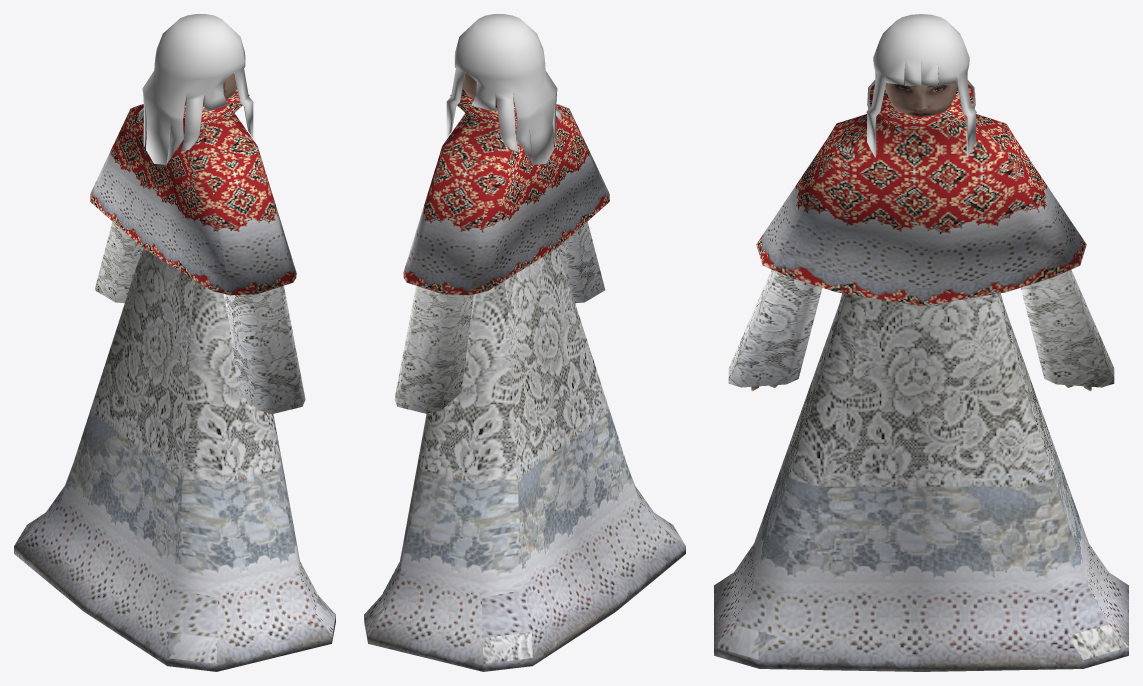
The model's file is npc 1.glb.
The picture shows the model from 3 angles, left to right: view 1: azimuth 30°, elevation 25°; view 2: azimuth 150°, elevation 25°; view 3: azimuth 270°, elevation 25°; orthographic projection. The views are drawn at different scales.
Visible parts, largest first — view 1: body.001, hair.001; view 2: body.001, hair.001; view 3: body.001, hair.001, head.001.
Part boxes in pixels (bbox=[...]): body.001: bbox=[14, 89, 335, 671]; hair.001: bbox=[138, 14, 253, 164]; body.001: bbox=[364, 89, 685, 671]; hair.001: bbox=[446, 14, 561, 164]; body.001: bbox=[714, 84, 1128, 671]; hair.001: bbox=[866, 14, 976, 157]; head.001: bbox=[885, 62, 957, 116].
Bounding box in the file's own units: 2.65 × 7.78 × 4.75.
6 materials, 5 textured.
